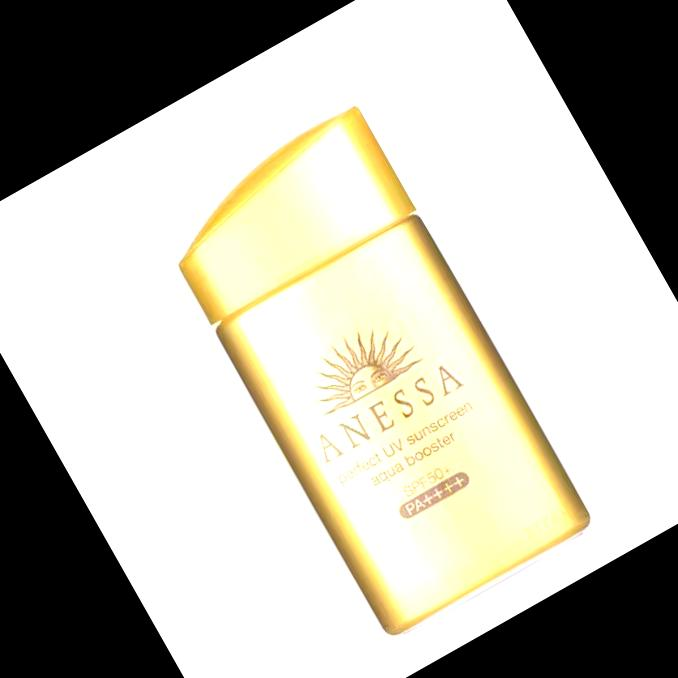cosmetic: (146, 100, 594, 639)
